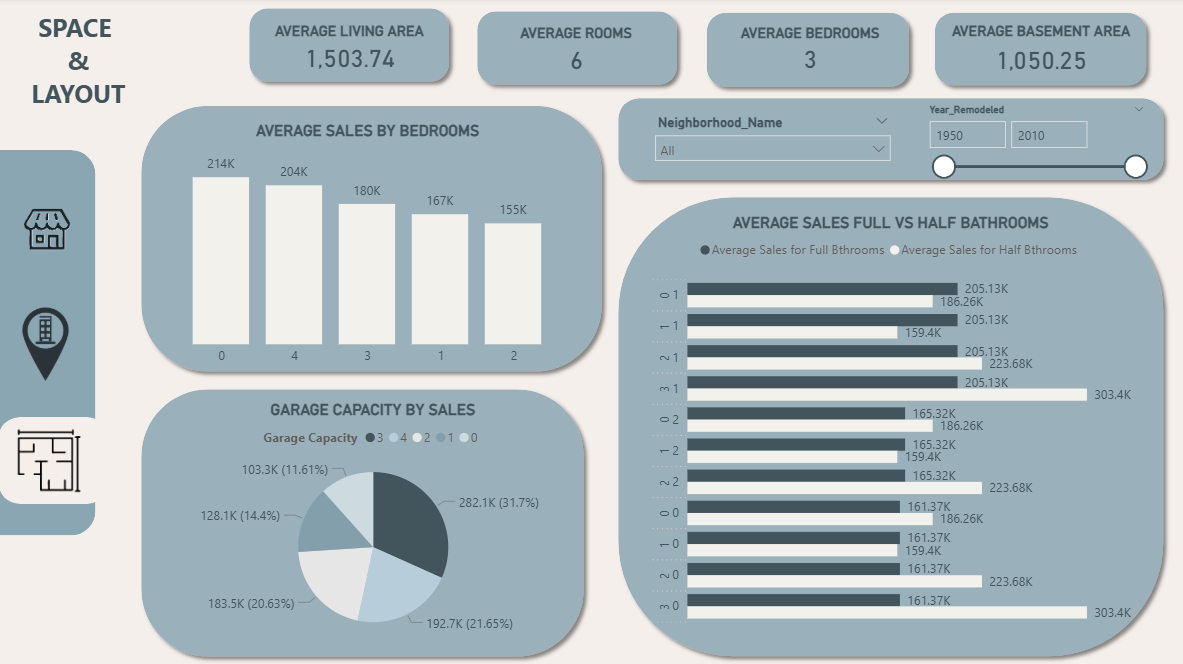

What the dashboard file says about the page in this screenshot:
{"tool":"powerbi","page":{"name":"SPACE & LAYOUT","canvas":[1280,720],"ordinal":2},"visuals":[{"type":"textbox","box":[0,9.7,173.3,124.7],"z":0},{"type":"shape","box":[145.1,109.2,515,304.8],"z":1000},{"type":"shape","box":[145.1,414,495.5,306.4],"z":2000},{"type":"shape","box":[660.1,207,606.3,513.4],"z":3000},{"type":"shape","box":[261.9,2.8,233.5,97],"z":4000},{"type":"shape","box":[507.7,7.2,233.5,97],"z":5000},{"type":"shape","box":[756.3,8.1,236.3,97.8],"z":6000},{"type":"shape","box":[0,165.2,105.2,416.1],"z":7000},{"type":"shape","box":[0,453.4,119.8,93.9],"z":8000},{"type":"image","box":[0,186.2,105.2,127.9],"z":11000},{"type":"columnChart","title":"AVERAGE SALES BY BEDROOMS","fields":{"Y":["Measure.Average Sales Price"],"Category":["Real_State_Data.Bedrooms_Above_Grade"]},"box":[172.8,133.7,451.5,272.2],"z":12000},{"type":"clusteredBarChart","title":"AVERAGE SALES FULL VS HALF BATHROOMS","fields":{"Category":["Real_State_Data.Full_Bathrooms","Real_State_Data.Half_Bathrooms"],"Y":["Measure.Average Sales for Full Bthrooms","Measure.Average Sales for Half Bthrooms"]},"box":[697.6,233.1,531.3,456.4],"z":13000},{"type":"pieChart","title":"GARAGE CAPACITY BY SALES","fields":{"Category":["Real_State_Data.Garage_Capacity_Cars"],"Y":["Avg(Real_State_Data.Sale_Price)"]},"box":[167.9,435.2,472.7,267.3],"z":14000},{"type":"card","title":"AVERAGE LIVING AREA","fields":{"Values":["Measure.Average Living Area"]},"box":[291.2,27.2,176,55.4],"z":15000},{"type":"card","title":"AVERAGE ROOMS","fields":{"Values":["Measure.Average Room Numbers"]},"box":[536.2,29.9,176,57],"z":16000},{"type":"card","title":"AVERAGE BEDROOMS","fields":{"Values":["Measure.Average Bedroom Numbers"]},"box":[787.8,29.9,176,55.4],"z":17000},{"type":"shape","box":[1002.9,7.6,246.1,96.2],"z":18000},{"type":"card","title":"AVERAGE BASEMENT AREA","fields":{"Values":["Measure.Average Basement Area"]},"box":[1023.6,27.7,205.4,60.3],"z":19000},{"type":"shape","box":[660.1,101.1,606.3,105.9],"z":19500},{"type":"slicer","fields":{"Values":["Real_State_Data.Neighborhood_Name"]},"box":[699.2,122.2,273.8,65.2],"z":20000},{"type":"slicer","fields":{"Values":["Real_State_Data.Year_Remodeled"]},"box":[993.3,110,256.7,91.7],"z":21000},{"type":"image","box":[1.6,335.2,98.8,79.3],"z":21001},{"type":"image","box":[4.9,453.4,100.4,93.9],"z":21002}]}

Visuals, with their boxes in screenshot pixels (x1, y1, x2, y2), scaled from the page's 1280x720 canvas onto the 1183x664 screenshot:
textbox: l=0, t=9, r=160, b=124
shape: l=134, t=101, r=610, b=382
shape: l=134, t=382, r=592, b=663
shape: l=610, t=191, r=1170, b=663
shape: l=242, t=3, r=458, b=92
shape: l=469, t=7, r=685, b=96
shape: l=699, t=7, r=917, b=98
shape: l=0, t=152, r=97, b=536
shape: l=0, t=418, r=111, b=505
image: l=0, t=172, r=97, b=290
"AVERAGE SALES BY BEDROOMS" columnChart: l=160, t=123, r=577, b=374
"AVERAGE SALES FULL VS HALF BATHROOMS" clusteredBarChart: l=645, t=215, r=1136, b=636
"GARAGE CAPACITY BY SALES" pieChart: l=155, t=401, r=592, b=648
"AVERAGE LIVING AREA" card: l=269, t=25, r=432, b=76
"AVERAGE ROOMS" card: l=496, t=28, r=658, b=80
"AVERAGE BEDROOMS" card: l=728, t=28, r=891, b=79
shape: l=927, t=7, r=1154, b=96
"AVERAGE BASEMENT AREA" card: l=946, t=26, r=1136, b=81
shape: l=610, t=93, r=1170, b=191
slicer - Real_State_Data.Neighborhood_Name: l=646, t=113, r=899, b=173
slicer - Real_State_Data.Year_Remodeled: l=918, t=101, r=1155, b=186
image: l=1, t=309, r=93, b=382
image: l=5, t=418, r=97, b=505
